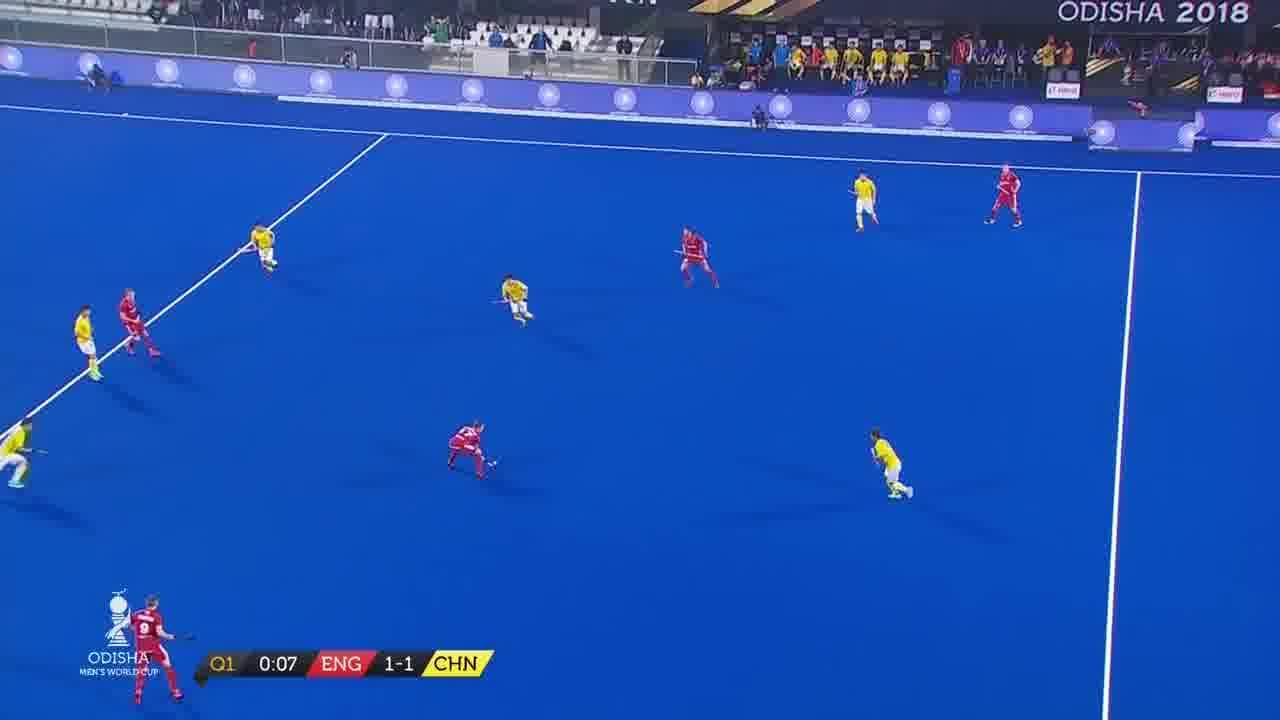ball: (492, 459, 502, 468)
